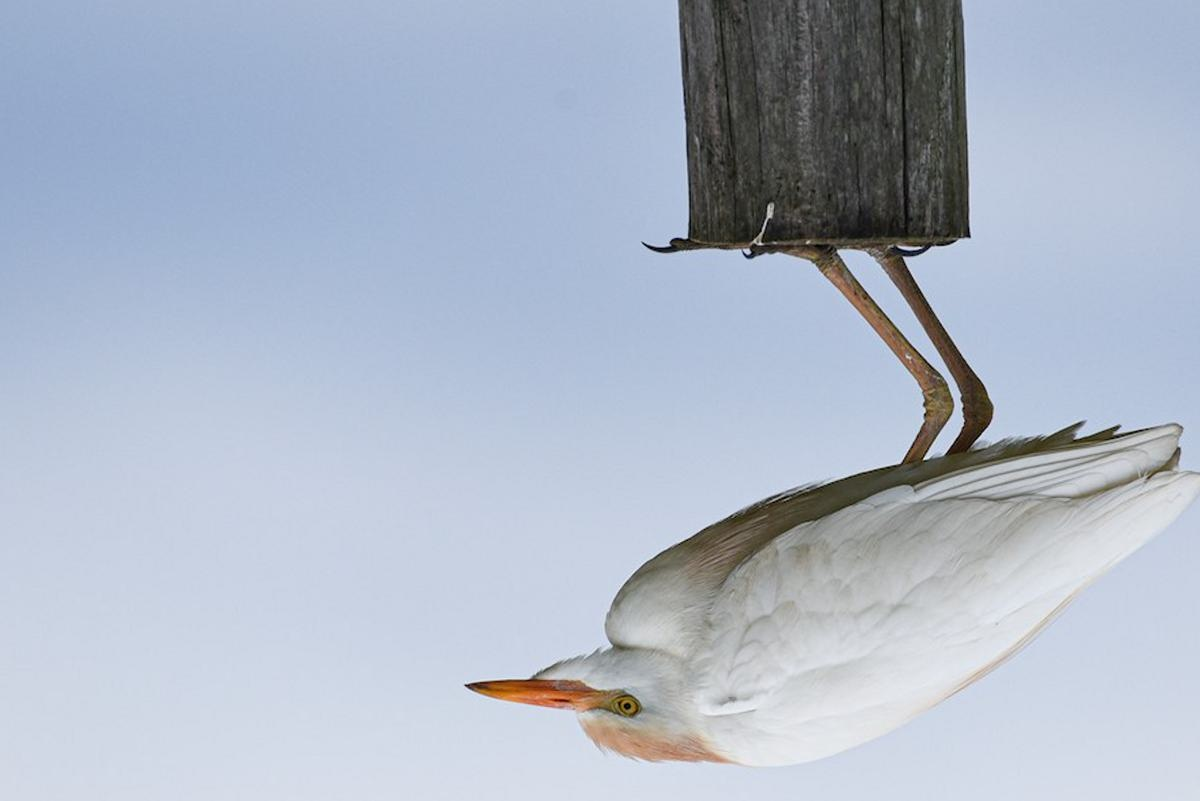egret: (455, 243, 1200, 779)
